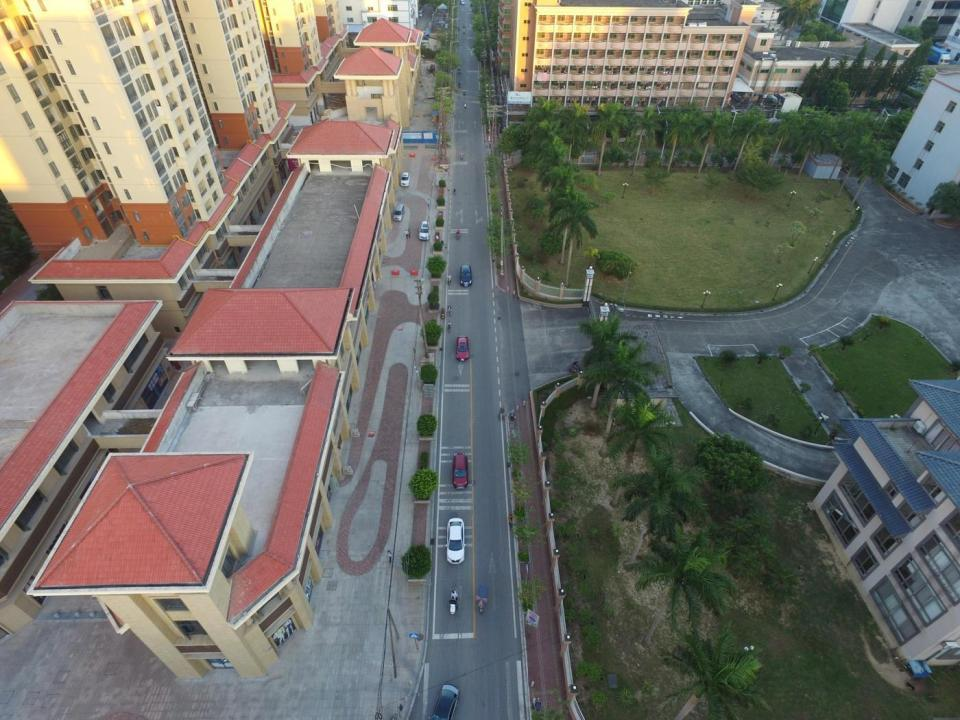car: (427, 683, 460, 720), (445, 518, 466, 565), (452, 452, 468, 489), (455, 336, 470, 362), (418, 219, 431, 241), (460, 265, 472, 287), (400, 172, 410, 187), (458, 0, 465, 5)
van: (392, 204, 405, 222)
